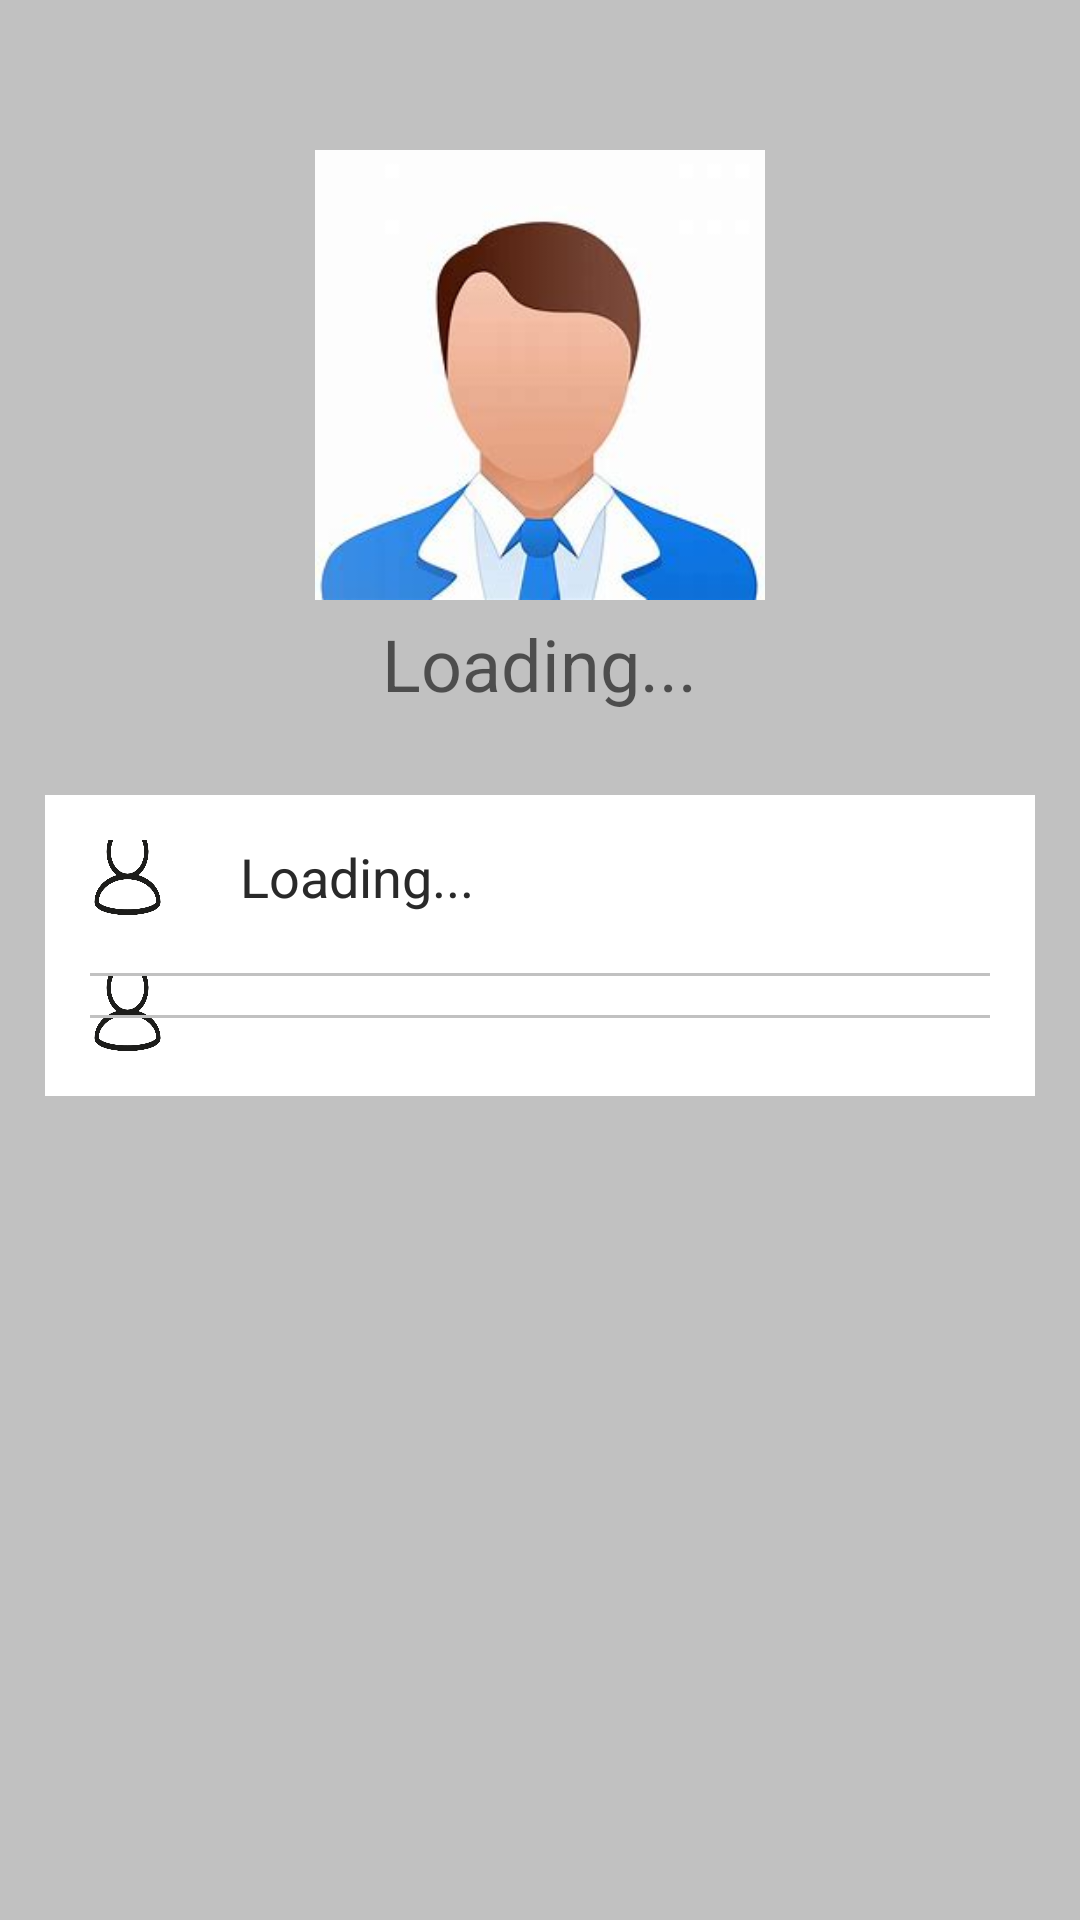

Icons on this 1080*1920 Android screen, each with its box as (x1, y1, x2, y2):
profile: (94, 840, 161, 915), (90, 976, 165, 1051)
